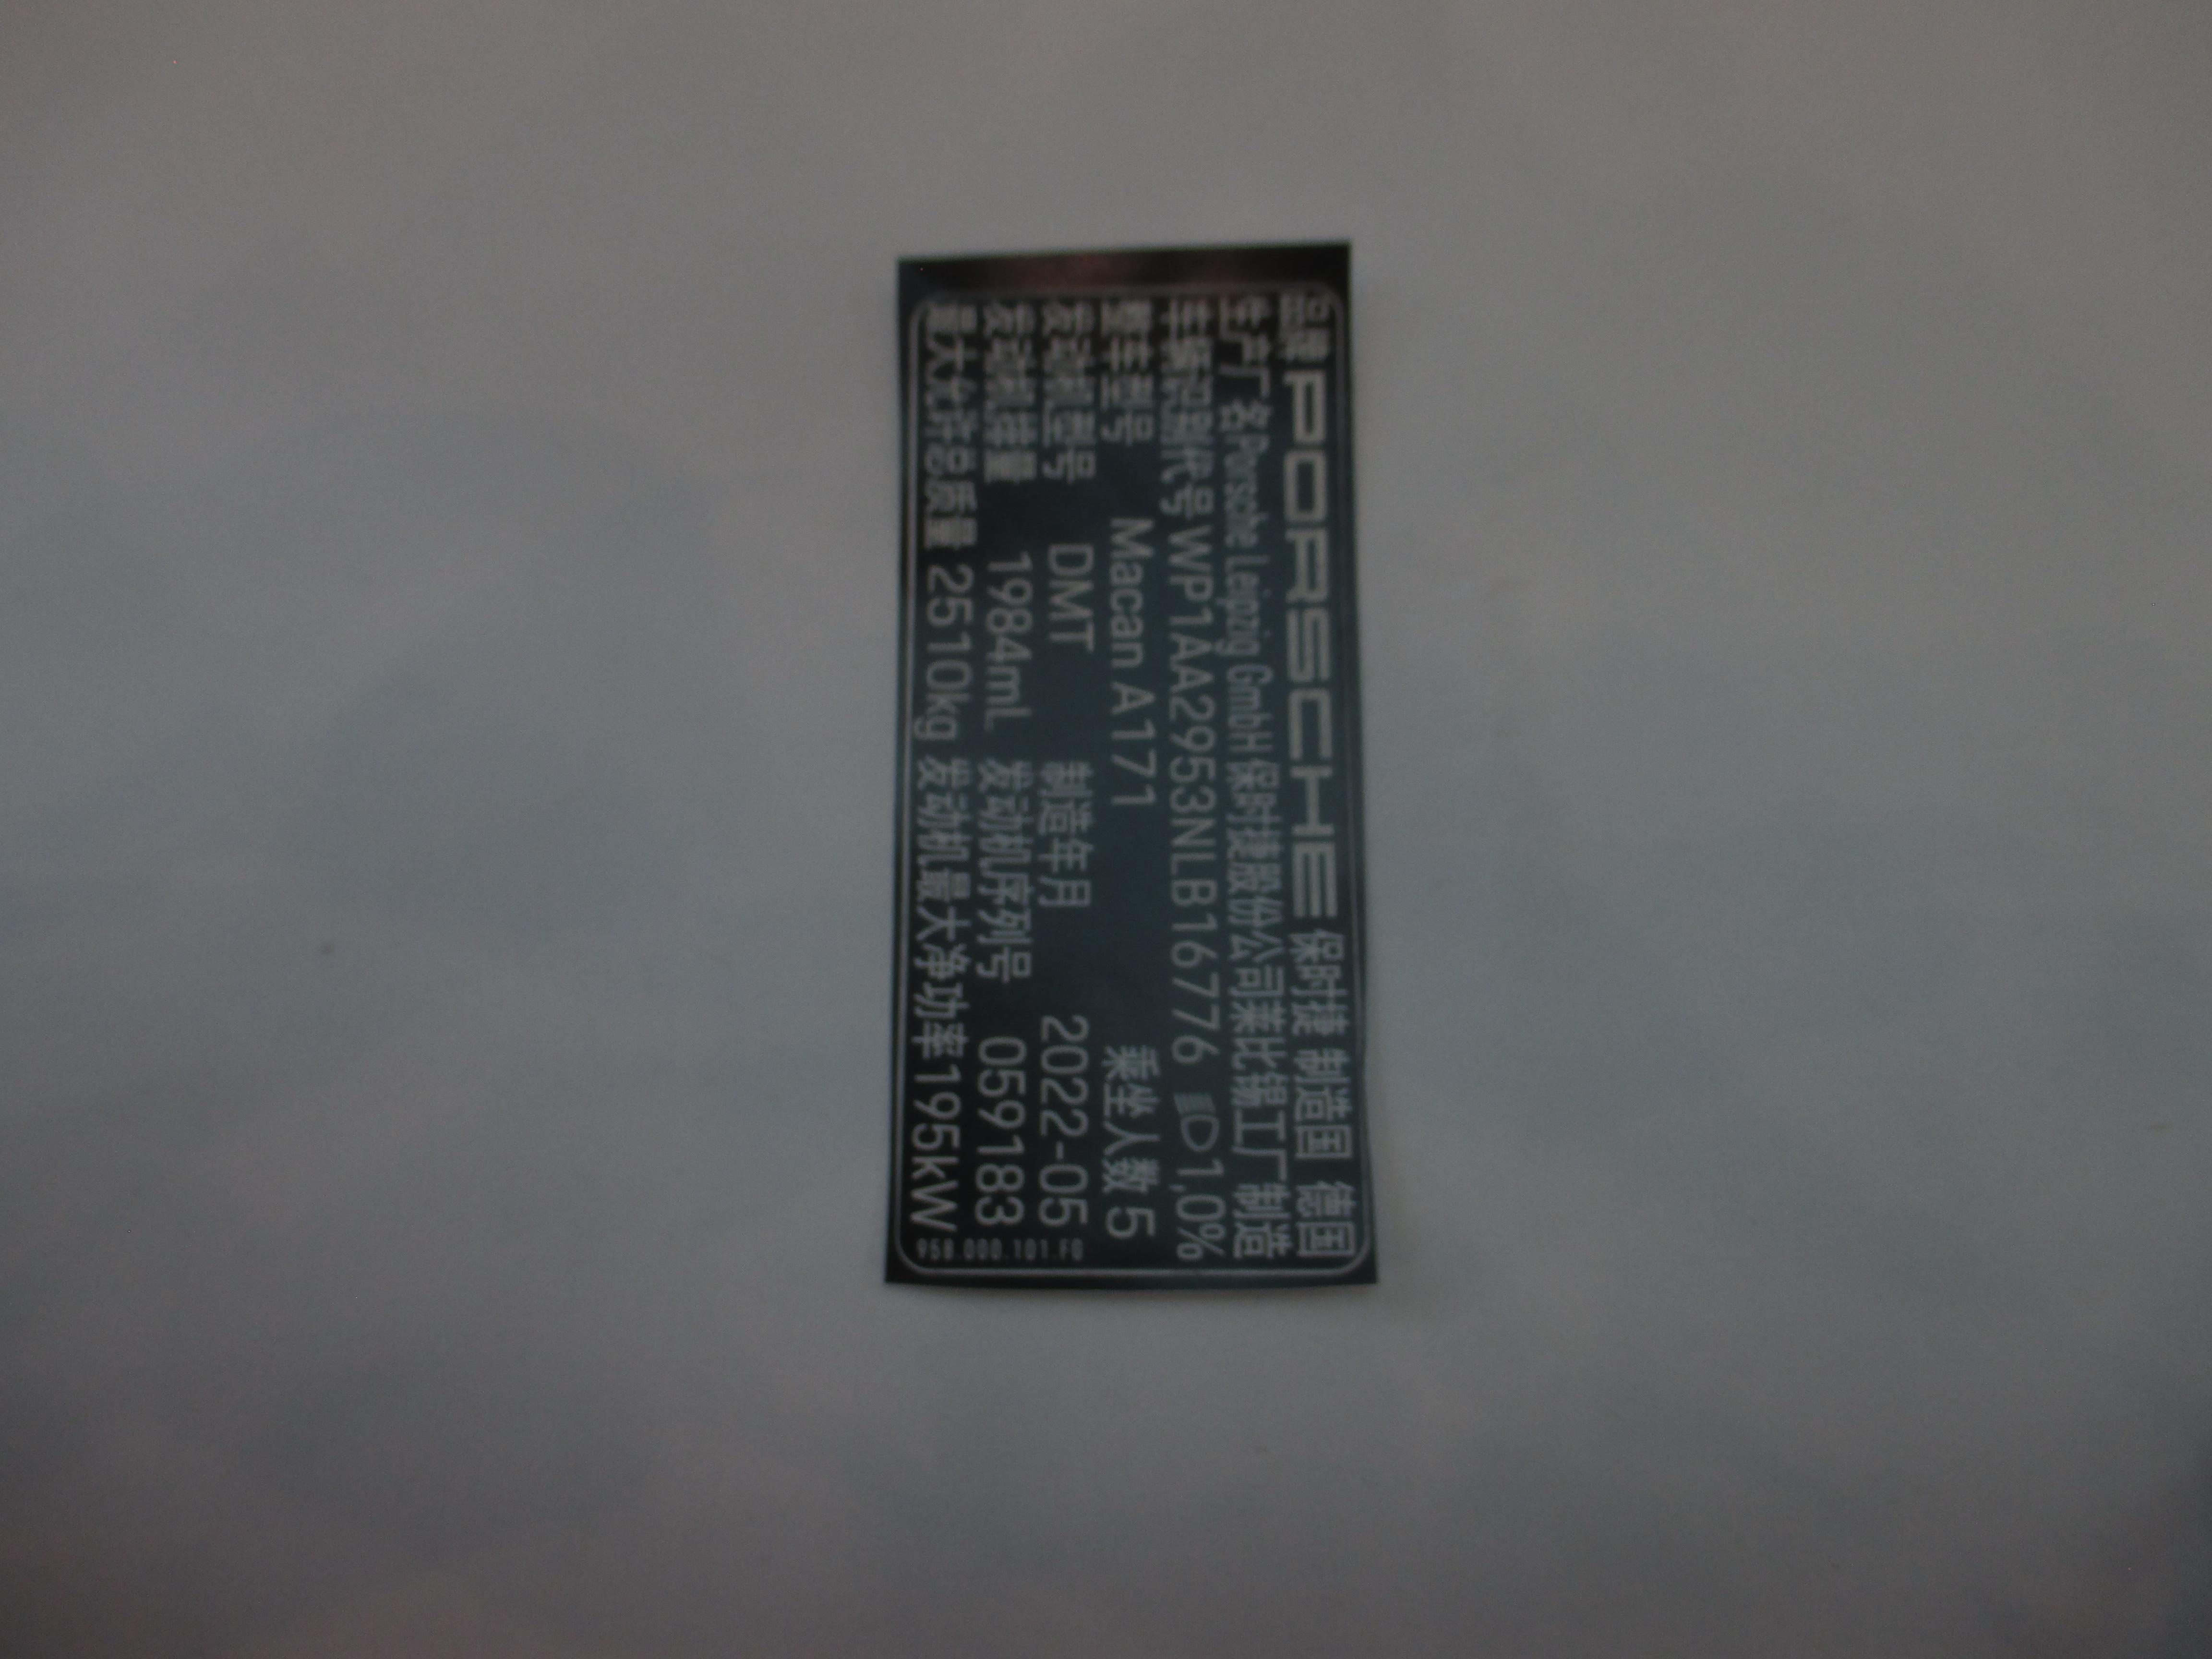Sign: (899, 286, 1371, 1274)
